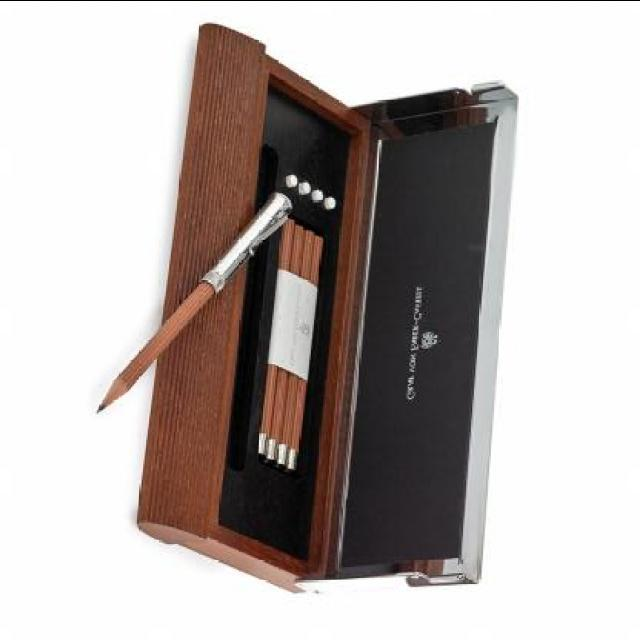pencil: (89, 366, 138, 418)
